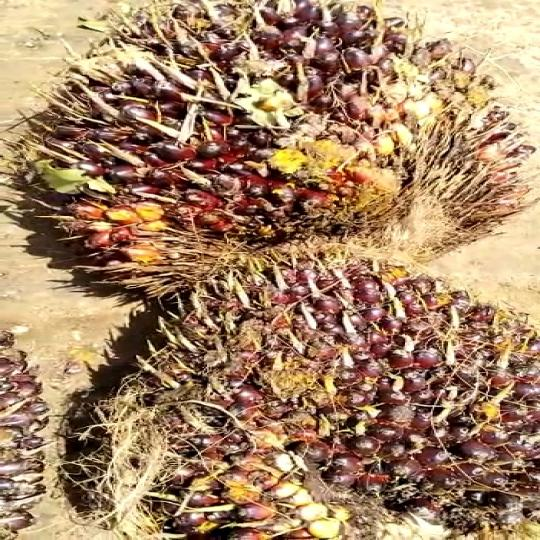kurang masak: (0, 0, 505, 276), (66, 258, 540, 540)
